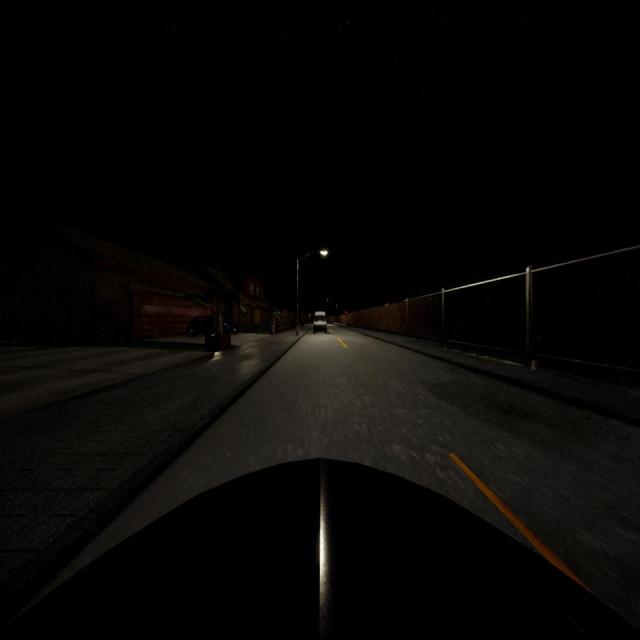Vehicle: (1, 454, 640, 640), (184, 315, 240, 338), (313, 311, 327, 334)
traffic_light: (345, 310, 347, 316)
